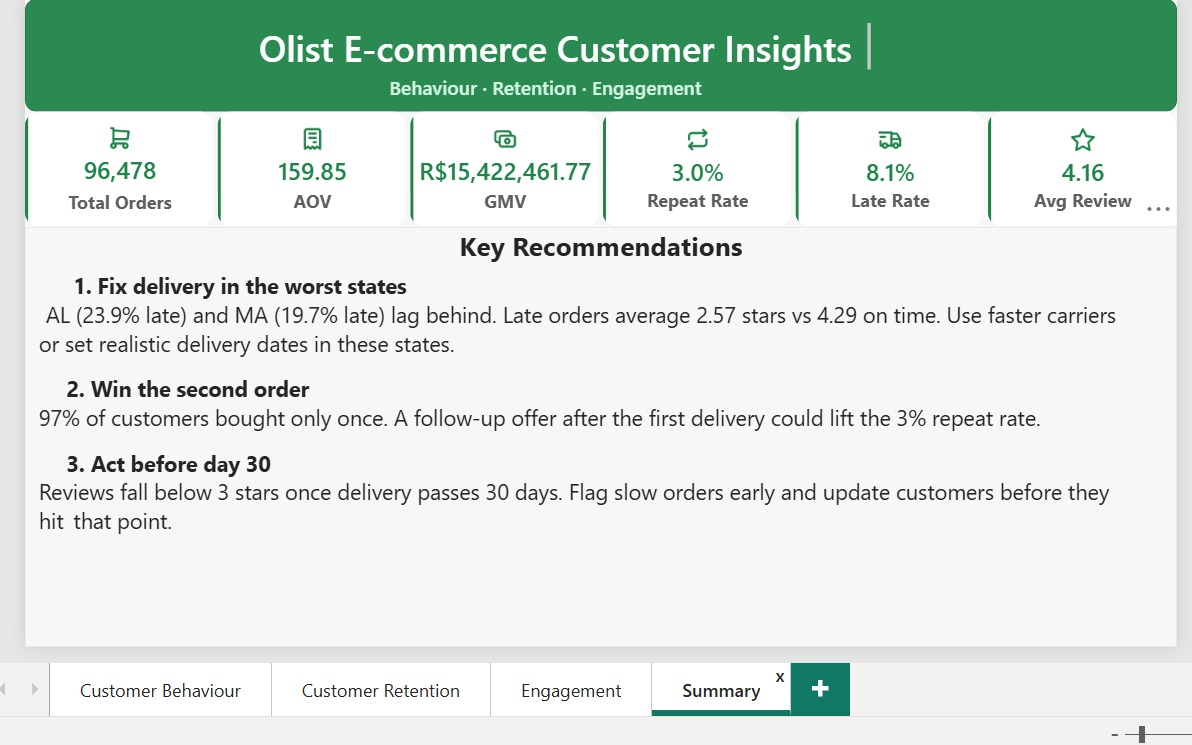

This screenshot's page, from the dashboard's own definition file:
{"tool":"powerbi","page":{"name":"Summary","canvas":[2560,1440],"ordinal":3},"visuals":[{"type":"shape","box":[0,0,2560,250],"z":0},{"type":"cardVisual","fields":{"Data":["Measures Table.Total Orders","Measures Table.AOV","Measures Table.GMV","Measures Table.Repeat Rate","Measures Table.Late Rate","Measures Table.Avg Review"]},"box":[0,250,2560,256.7],"z":1},{"type":"textbox","box":[520,53.3,1360,113.3],"z":2},{"type":"textbox","box":[810,166.7,713.3,83.3],"z":3},{"type":"textbox","box":[0,506.7,2560,933.3],"z":4}]}

Visuals, with their boxes on the page's 2560x1440 design canvas (x1, y1, x2, y2). These are canvas units, not pixel positions in the 1192x745 screenshot, which may show the page scaled, cropped or inside an application window:
shape: l=0, t=0, r=2560, b=250
cardVisual - Measures Table.Total Orders x Measures Table.AOV: l=0, t=250, r=2560, b=507
textbox: l=520, t=53, r=1880, b=167
textbox: l=810, t=167, r=1523, b=250
textbox: l=0, t=507, r=2560, b=1440
